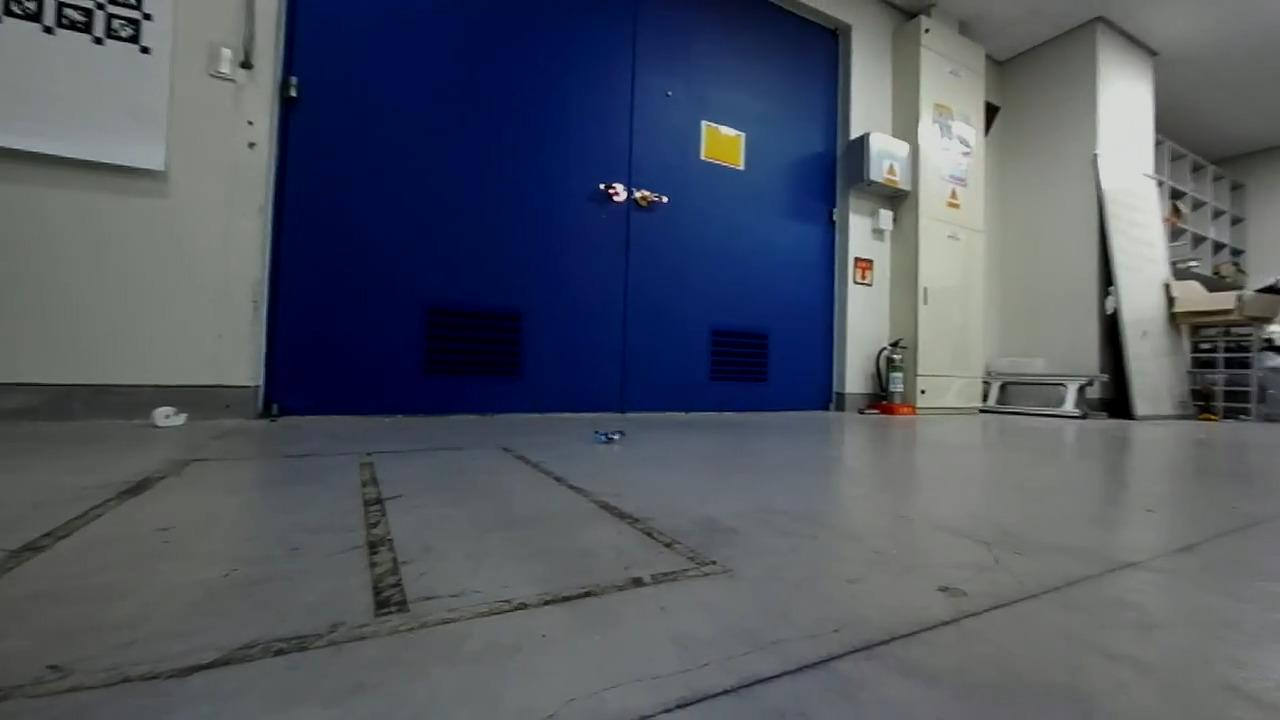crazyflie: (585, 424, 635, 450)
